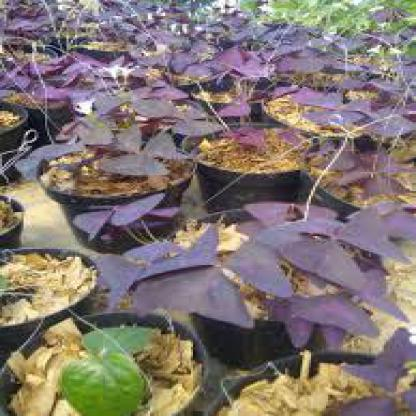Kupu-Kupu: (143, 232, 280, 324), (289, 210, 407, 279), (353, 339, 409, 416)
